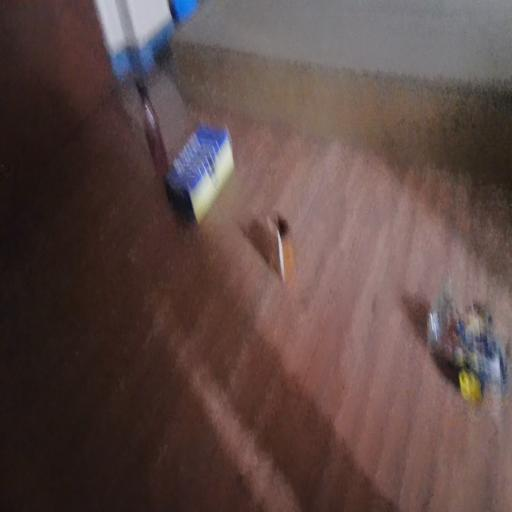Bottle: (137, 83, 166, 163)
car: (427, 296, 507, 404)
